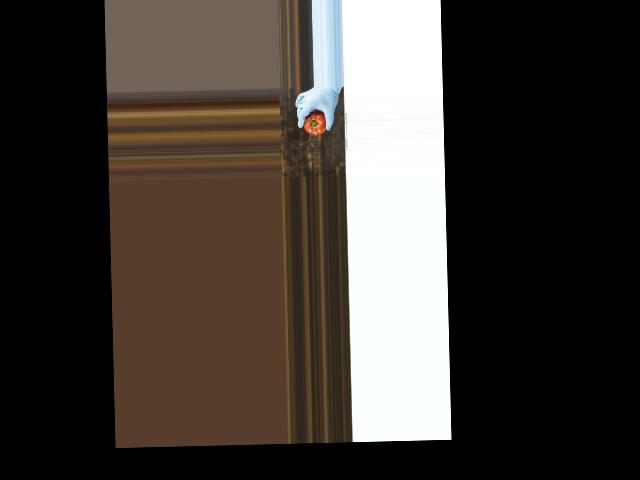tomato: (303, 110, 326, 136)
